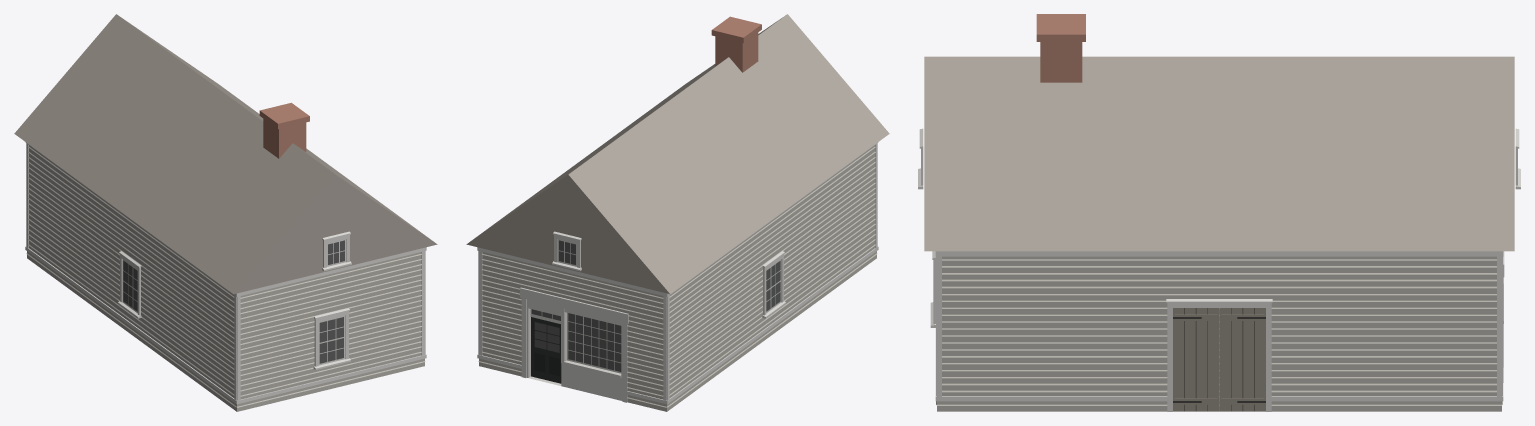
Rendered from recon_1835_core_c2_053__inferred_1835.glb.
The picture shows the model from 3 angles, left to right: view 1: azimuth 30°, elevation 25°; view 2: azimuth 150°, elevation 25°; view 3: azimuth 270°, elevation 25°; orthographic projection. The views are drawn at different scales.
Parts seen in each view (by area): view 1: recon_1835_core_c2_053__inferred_1835; view 2: recon_1835_core_c2_053__inferred_1835; view 3: recon_1835_core_c2_053__inferred_1835.
Part boxes in pixels (bbox=[...]): recon_1835_core_c2_053__inferred_1835: bbox=[14, 14, 437, 411]; recon_1835_core_c2_053__inferred_1835: bbox=[466, 14, 889, 411]; recon_1835_core_c2_053__inferred_1835: bbox=[918, 14, 1520, 411].
Bounding box in the file's own units: 6.31 × 7.14 × 11.98.
